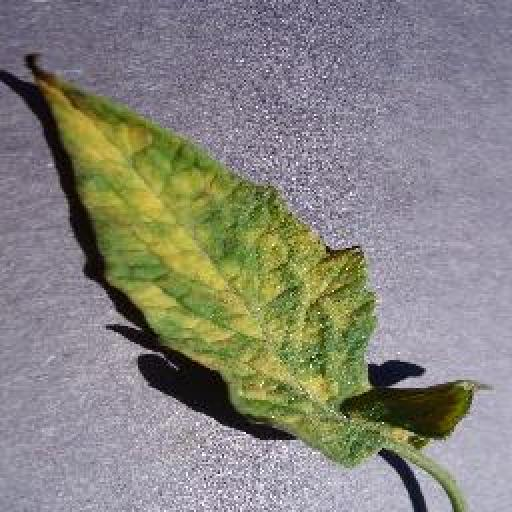disease_tomato: (23, 50, 379, 470)
